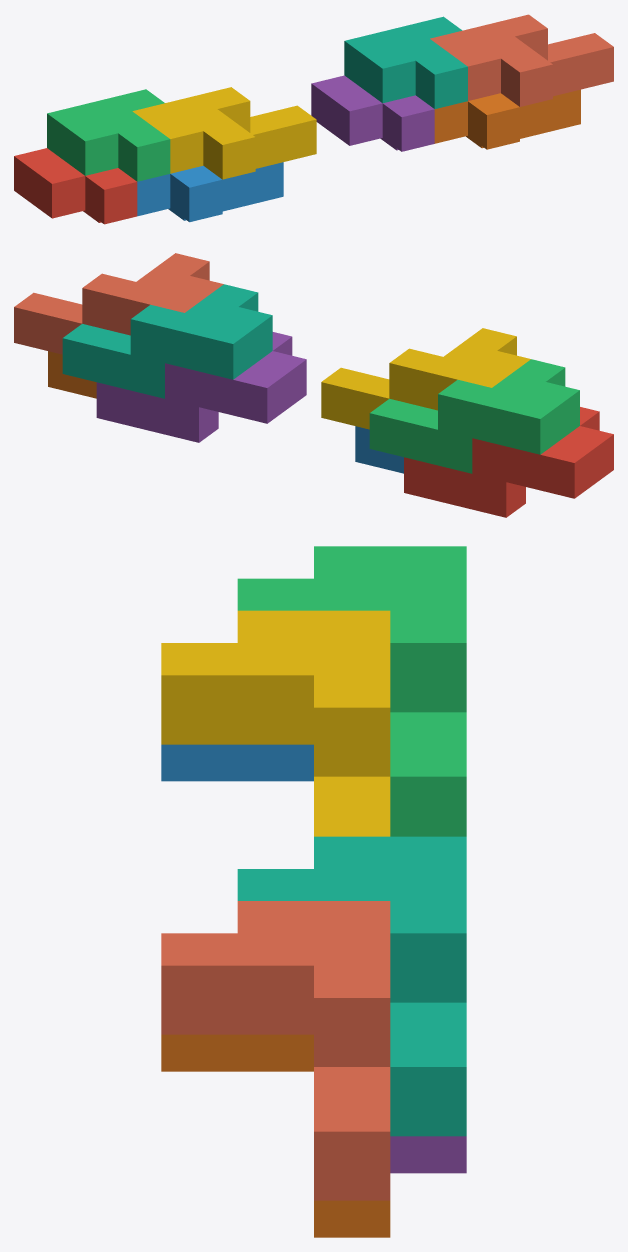
File: tiling.obj
The picture shows the model from 3 angles, top to bottom: view 1: azimuth 30°, elevation 25°; view 2: azimuth 150°, elevation 25°; view 3: azimuth 270°, elevation 25°; orthographic projection. The views are drawn at different scales.
Parts seen in each view (by area): view 1: copy_1_domain_4, copy_1_domain_8, copy_1_domain_3, copy_1_domain_7, copy_1_domain_1, copy_1_domain_5, copy_1_domain_2, copy_1_domain_6; view 2: copy_1_domain_3, copy_1_domain_7, copy_1_domain_5, copy_1_domain_1, copy_1_domain_8, copy_1_domain_4, copy_1_domain_6, copy_1_domain_2; view 3: copy_1_domain_8, copy_1_domain_4, copy_1_domain_7, copy_1_domain_3, copy_1_domain_6, copy_1_domain_2, copy_1_domain_5.
Part boxes in pixels (bbox=[...]): copy_1_domain_4: bbox=[132, 87, 316, 179]; copy_1_domain_8: bbox=[430, 14, 613, 106]; copy_1_domain_3: bbox=[47, 89, 170, 181]; copy_1_domain_7: bbox=[344, 16, 467, 108]; copy_1_domain_1: bbox=[14, 148, 137, 224]; copy_1_domain_5: bbox=[311, 75, 434, 151]; copy_1_domain_2: bbox=[137, 162, 283, 222]; copy_1_domain_6: bbox=[434, 89, 580, 149]; copy_1_domain_3: bbox=[369, 359, 579, 473]; copy_1_domain_7: bbox=[62, 284, 272, 398]; copy_1_domain_5: bbox=[96, 332, 306, 442]; copy_1_domain_1: bbox=[404, 407, 613, 517]; copy_1_domain_8: bbox=[14, 253, 223, 354]; copy_1_domain_4: bbox=[321, 328, 530, 429]; copy_1_domain_6: bbox=[48, 351, 96, 398]; copy_1_domain_2: bbox=[355, 426, 403, 473]; copy_1_domain_8: bbox=[161, 901, 390, 1200]; copy_1_domain_4: bbox=[161, 610, 390, 836]; copy_1_domain_7: bbox=[237, 836, 466, 1136]; copy_1_domain_3: bbox=[237, 546, 466, 836]; copy_1_domain_6: bbox=[161, 1034, 390, 1237]; copy_1_domain_2: bbox=[161, 744, 313, 781]; copy_1_domain_5: bbox=[390, 1136, 466, 1173].
Size of the model in its own units: 17 by 3 by 4.
